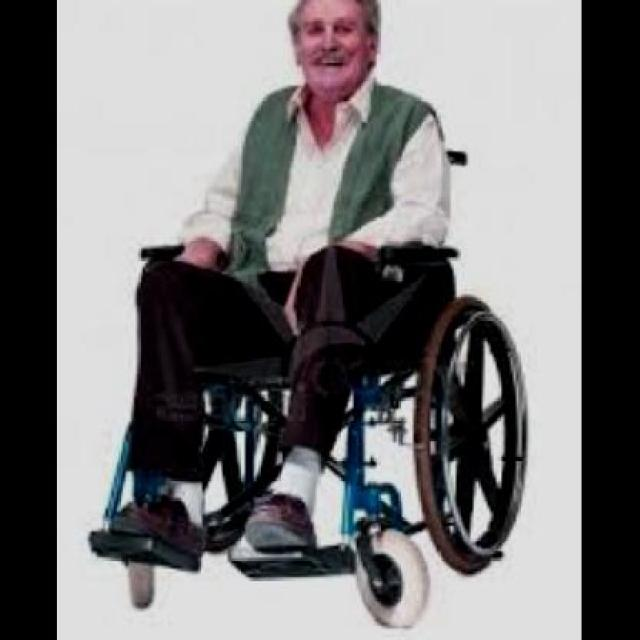wheelchairs: (79, 229, 554, 635)
